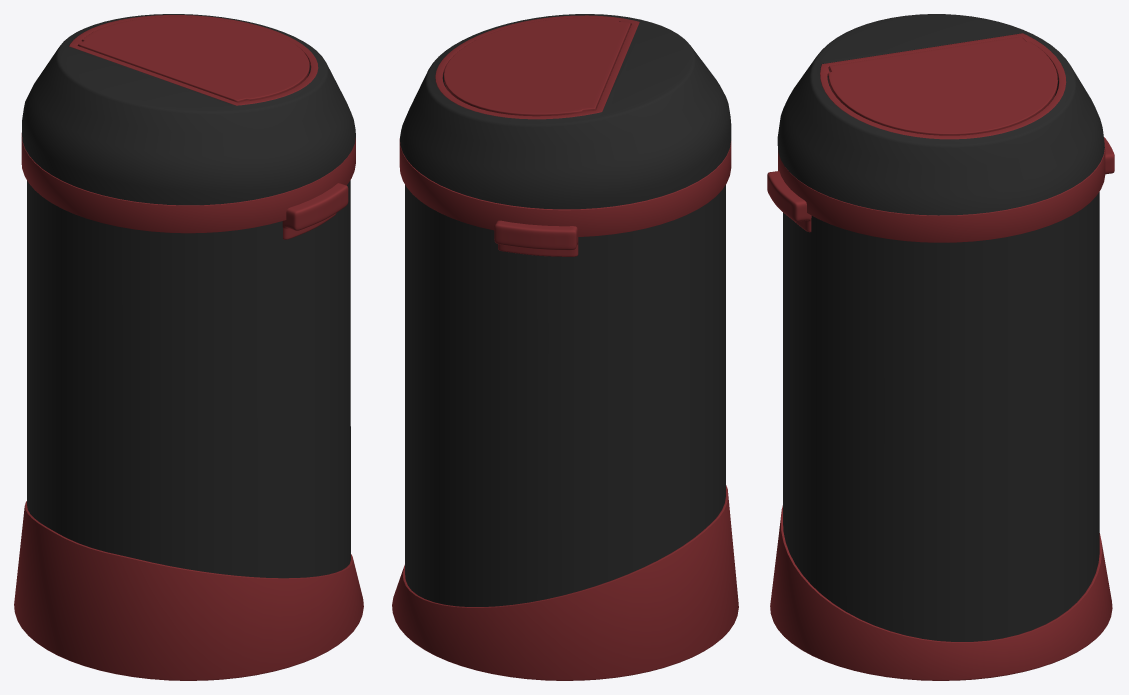
File: Touch bin_fbx.FBX
The picture shows the model from 3 angles, left to right: view 1: azimuth 30°, elevation 25°; view 2: azimuth 150°, elevation 25°; view 3: azimuth 270°, elevation 25°; orthographic projection. The views are drawn at different scales.
Visible parts, largest first — view 1: touch bin; view 2: touch bin; view 3: touch bin.
Boxes of the visible parts, bbox=[...] form: touch bin: bbox=[14, 14, 363, 680]; touch bin: bbox=[392, 14, 738, 680]; touch bin: bbox=[767, 14, 1114, 680].
Size of the model in its own units: 17.9 by 31.35 by 18.17.
